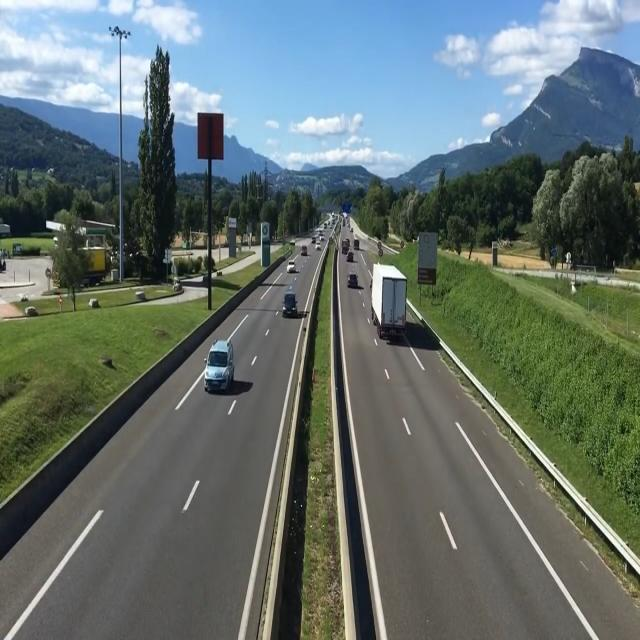car: (204, 336, 241, 398), (281, 282, 300, 319), (344, 268, 359, 292), (286, 256, 297, 277)
truck: (370, 258, 410, 349)
